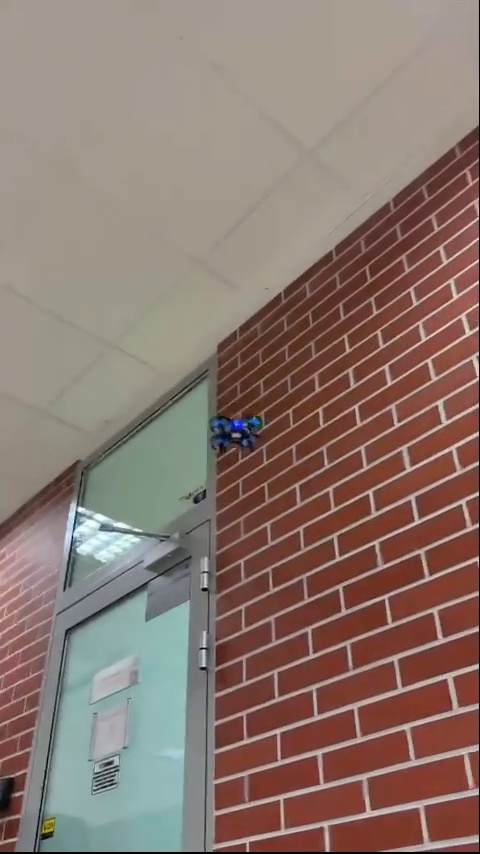drone: (207, 414, 268, 457)
